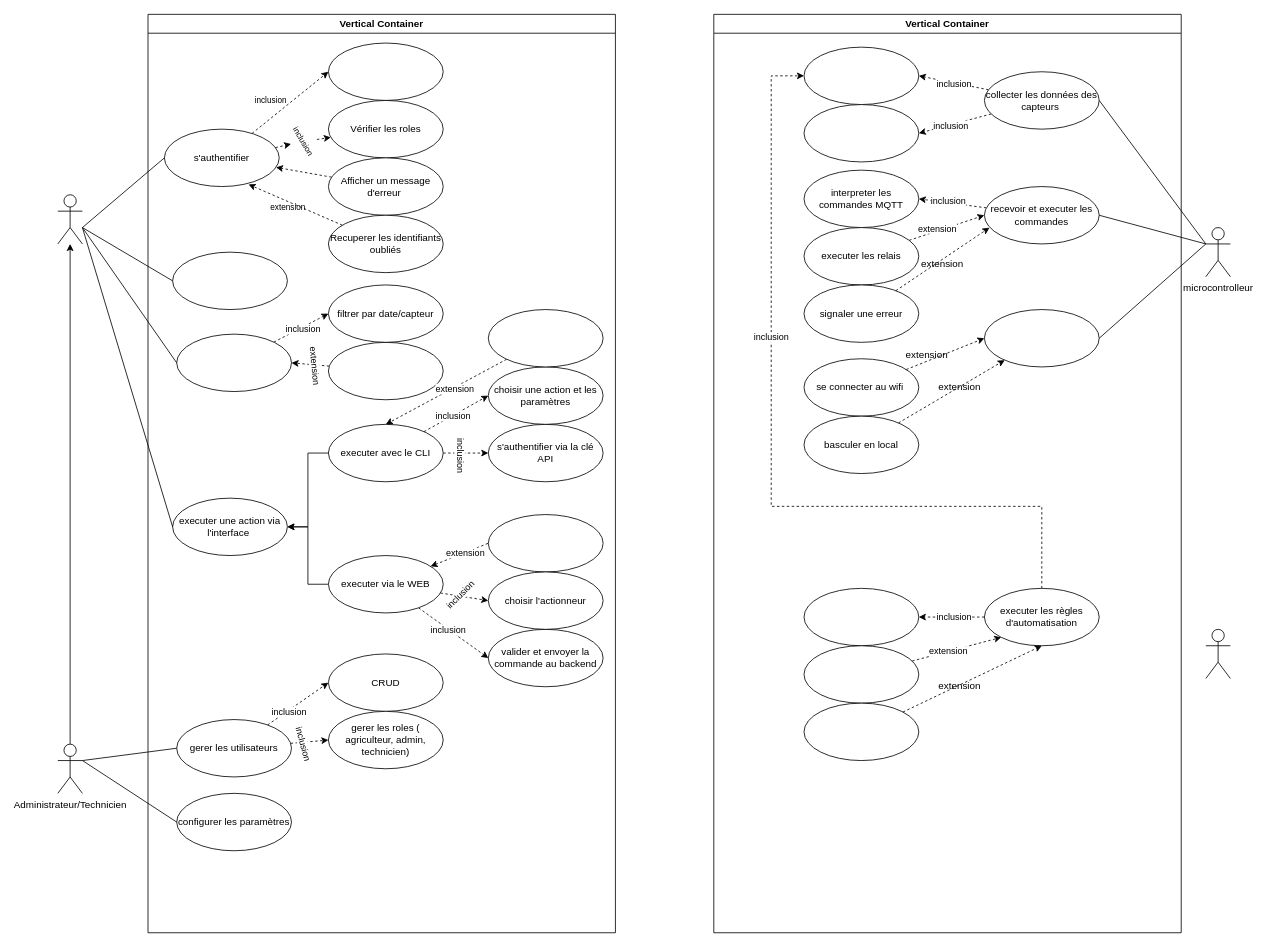
Image size: 1267x947. Some labels were removed from this diagram. The shapes that lost their labels are listed below. From the top down, each one's box as (x1, y1, x2, y2) in pixels, then its label:
(328, 42, 443, 100): Vérifier les identifiants
(803, 46, 919, 105): lire les valeurs des capteurs
(803, 104, 919, 162): publier les valeurs sur le topic MQTT
(57, 194, 82, 244): Agriculteur
(172, 251, 287, 310): consulter le tableau de bord
(487, 309, 603, 367): executer une action en lots sur plusieurs parcelle
(984, 309, 1099, 367): gerer la connexion
(176, 333, 292, 392): visualiser l'historique des mesures
(328, 342, 443, 400): exporter
(487, 514, 603, 572): programmer une durée d'execution
(803, 588, 919, 646): comparer aux seuils configurés
(803, 645, 919, 703): activer/ desactiver les relais ( actionneurs)
(1205, 629, 1230, 679): horloge/timer
(803, 702, 919, 761): declencher une alerte notification pour le dashboard
